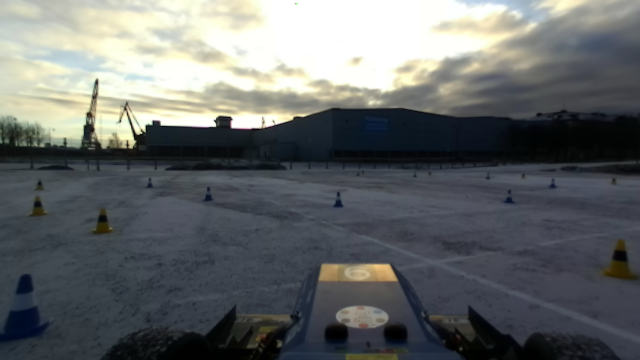blue: (332, 189, 345, 208), (503, 188, 516, 203), (202, 186, 214, 201), (548, 176, 557, 189), (145, 176, 153, 188)
yellow: (602, 239, 639, 279), (91, 209, 114, 234), (29, 196, 47, 217), (34, 177, 44, 190)
